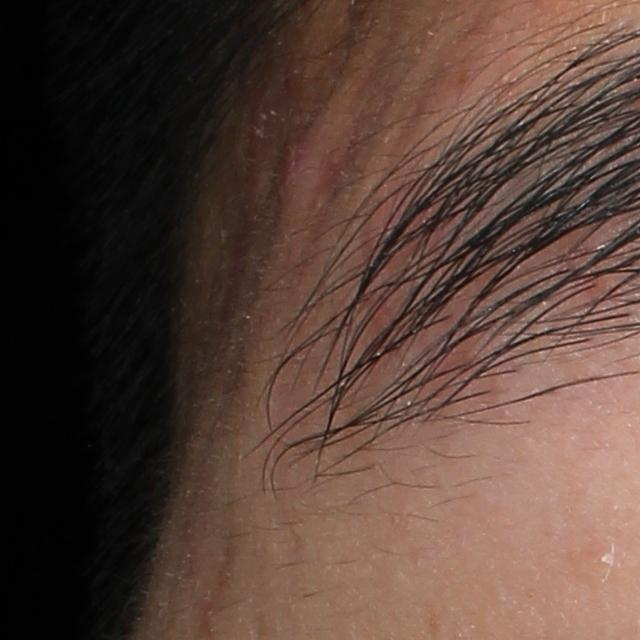comedo: (587, 545, 619, 573)
papule: (275, 131, 322, 223)
